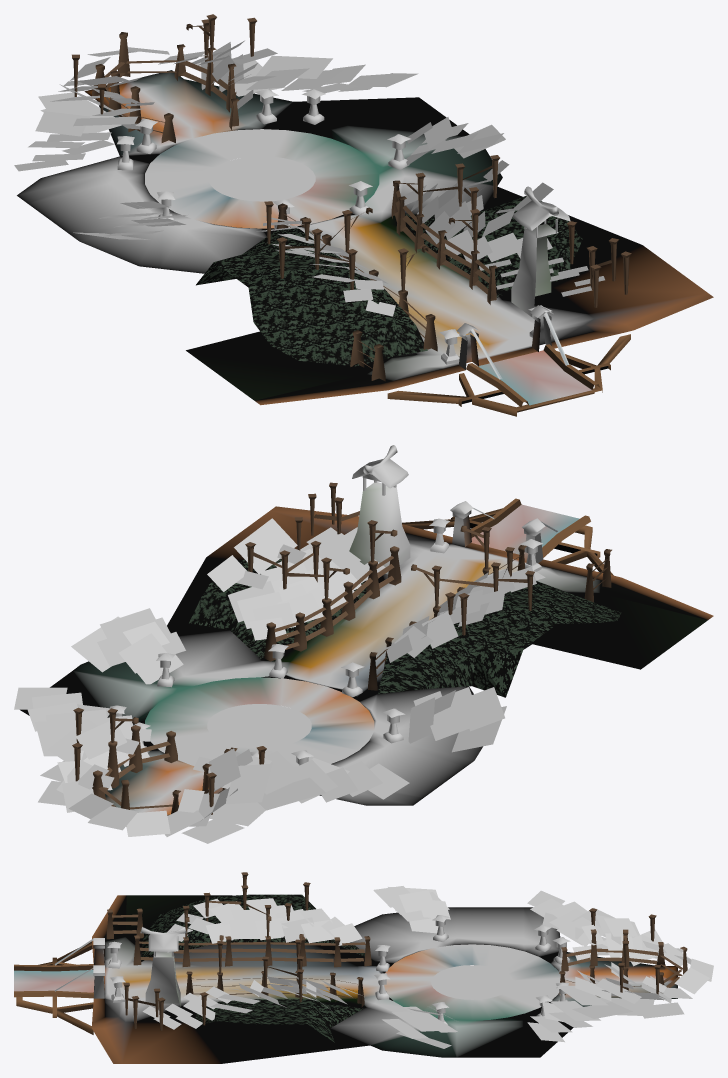
Rendered from zone01.FBX.
3 renders of one model, top to bottom at view 1: azimuth 30°, elevation 25°; view 2: azimuth 150°, elevation 25°; view 3: azimuth 270°, elevation 25°, orthographic. The views are drawn at different scales.
Visible parts, largest first — view 1: 01_01, Object01, Box01, 01_02, Object22, 01_03, Object1279; view 2: 01_01, 01_02, Object01, Box01, Object22, Object1279, 01_03; view 3: 01_01, Object01, 01_02, Box01, Object1279, 01_03, Object22.
Part boxes in pixels (box(x1,y1,x2,y2)): 01_01: box(17, 14, 642, 314); Object01: box(186, 186, 713, 416); Box01: box(196, 196, 582, 366); 01_02: box(14, 40, 505, 239); Object22: box(404, 160, 553, 263); 01_03: box(343, 257, 604, 316); Object1279: box(256, 216, 387, 283); 01_01: box(20, 520, 534, 815); 01_02: box(14, 608, 506, 843); Object01: box(206, 445, 713, 669); Box01: box(189, 559, 621, 697); Object22: box(207, 518, 361, 640); Object1279: box(385, 566, 536, 662); 01_03: box(300, 527, 545, 583); 01_01: box(183, 872, 687, 1063); Object01: box(14, 895, 231, 1063); 01_02: box(373, 886, 713, 1048); Box01: box(141, 894, 373, 1042); Object1279: box(193, 898, 362, 945); 01_03: box(142, 913, 231, 1029); Object22: box(210, 976, 362, 1013).
Size of the model in its own units: 3608 by 918 by 6333.
